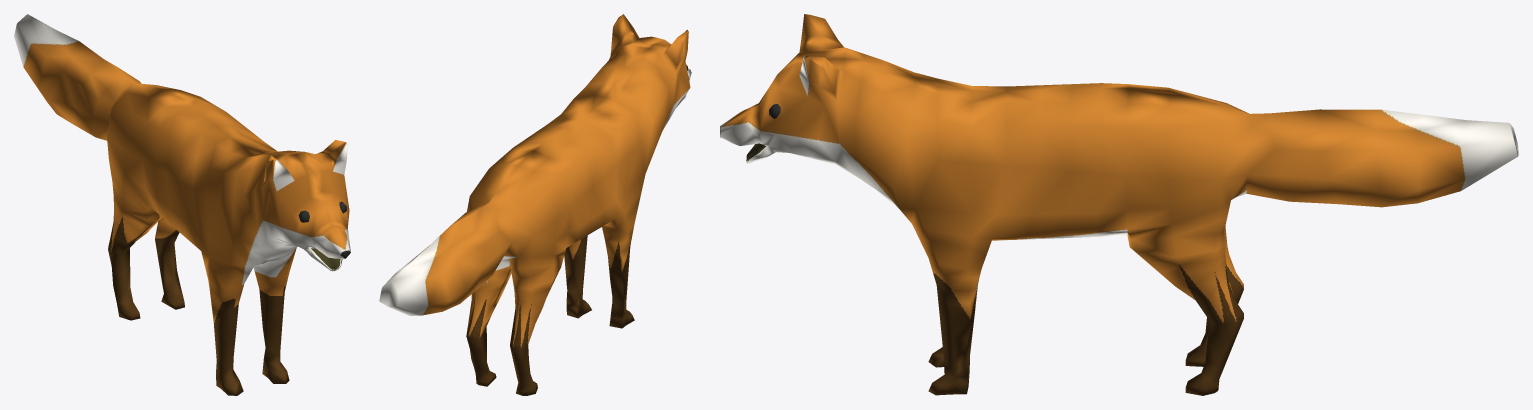
File: runjumpsitdeath.gltf
3 views of the same model, side by side, from view 1: azimuth 30°, elevation 25°; view 2: azimuth 150°, elevation 25°; view 3: azimuth 270°, elevation 25° (orthographic). The views are drawn at different scales.
Visible parts, largest first — view 1: Skinned Mesh 0; view 2: Skinned Mesh 0; view 3: Skinned Mesh 0.
Part boxes in pixels (left/top/right/bottom): Skinned Mesh 0: left=14, top=14, right=350, bottom=395; Skinned Mesh 0: left=379, top=14, right=691, bottom=395; Skinned Mesh 0: left=720, top=14, right=1518, bottom=395.
Size of the model in its own units: 0.5099 by 1.69 by 3.59.
1 material, 1 textured.
